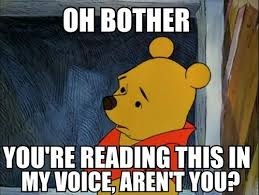Winnie: (106, 41, 199, 144)
